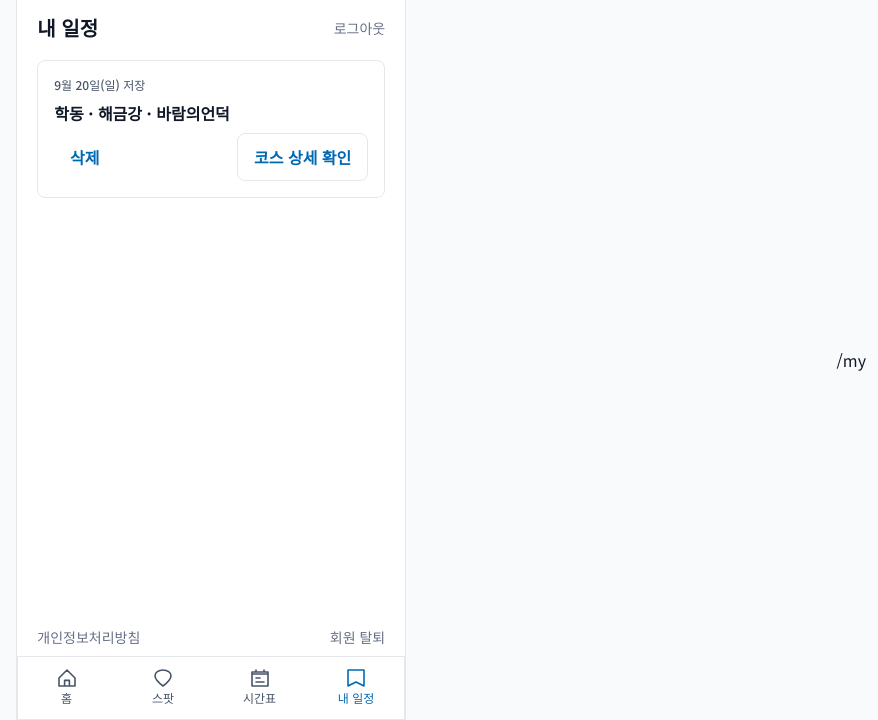
MyPlansPage — 회원 탈퇴와 개인정보처리방침 (2026-09-16) › 취소하면 아무것도 지우지 않는다
Click the button "회원 탈퇴" at (358, 638), box [330,627,385,648]
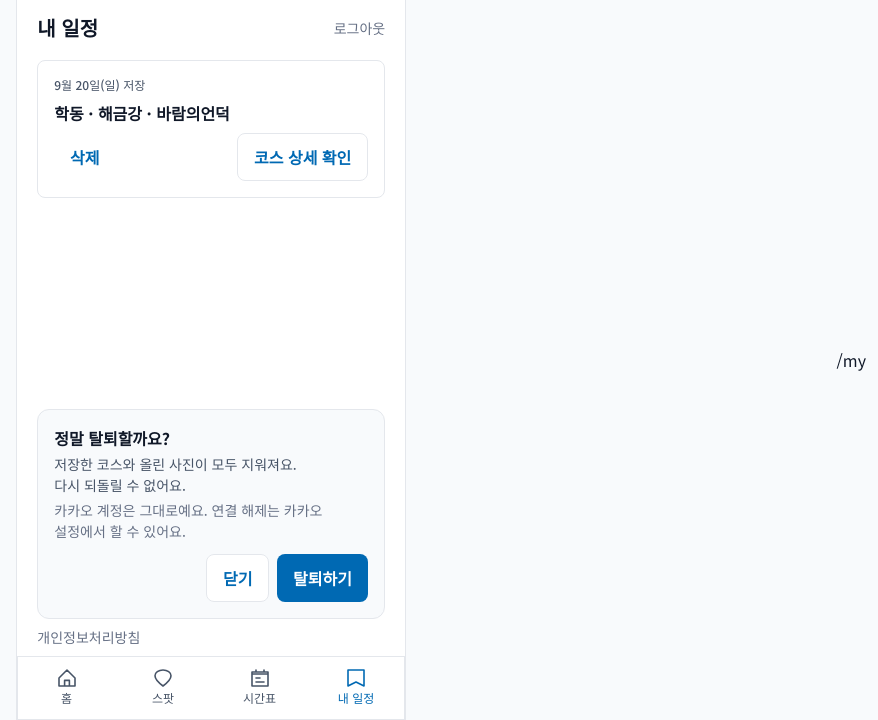
Click the button "닫기" at (238, 578), box [206,554,269,602]
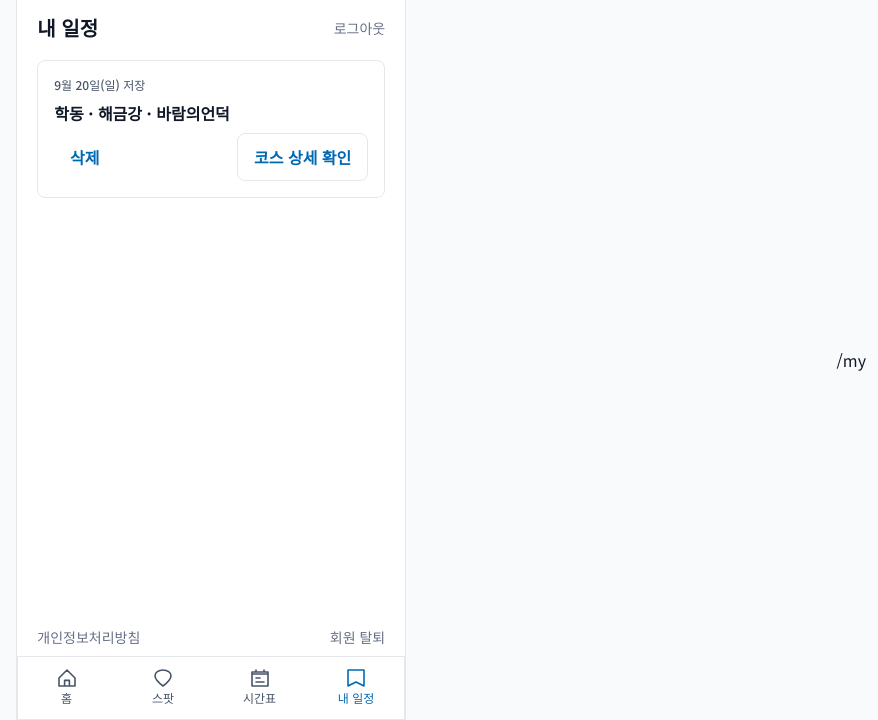
Now the text "정말 탈퇴할까요?" is gone
Now the button "회원 탈퇴" is shown, box [330,627,385,648]
